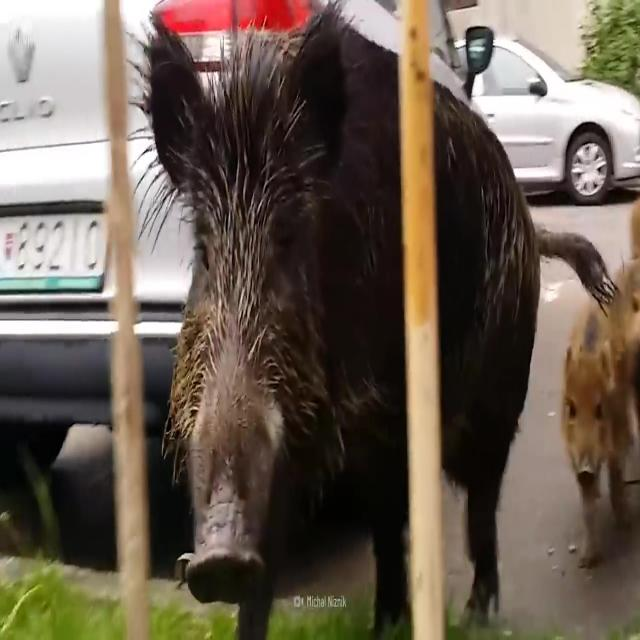pig: (140, 9, 600, 640)
